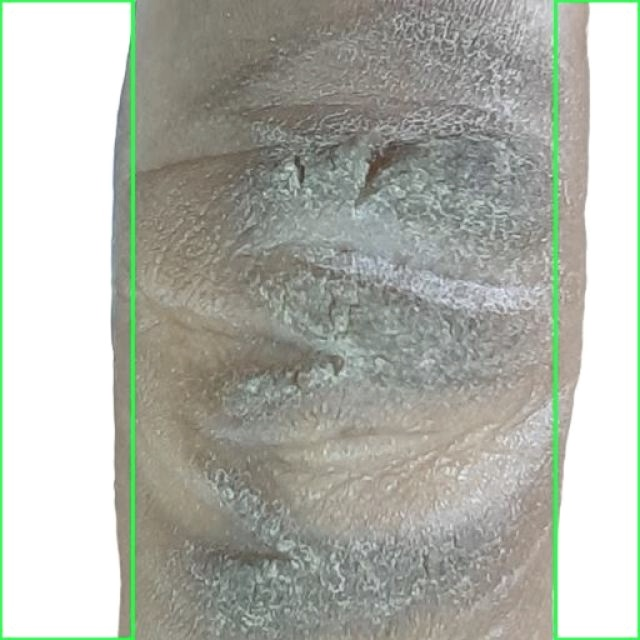Contact Dermatitis: (0, 0, 133, 639), (555, 0, 639, 639)
